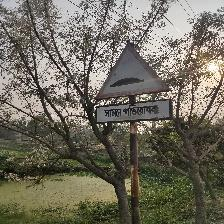Speed-breaker: (94, 41, 173, 125)
